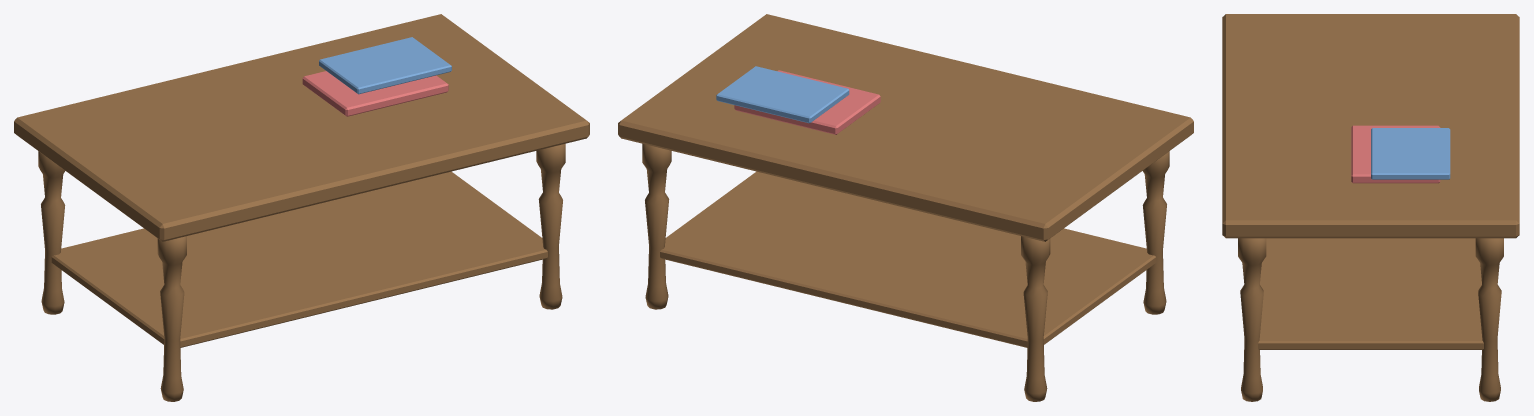
Rendered from coffee_table.glb.
3 views of the same model, side by side, from view 1: azimuth 30°, elevation 25°; view 2: azimuth 150°, elevation 25°; view 3: azimuth 270°, elevation 25° (orthographic).
Parts seen in each view (by area): view 1: coffee_table; view 2: coffee_table; view 3: coffee_table.
Part boxes in pixels (box(x1,y1,x2,y2)): coffee_table: box(14, 14, 589, 401); coffee_table: box(618, 14, 1193, 401); coffee_table: box(1222, 14, 1519, 401).
Size of the model in its own units: 1 by 0.4575 by 0.6.
